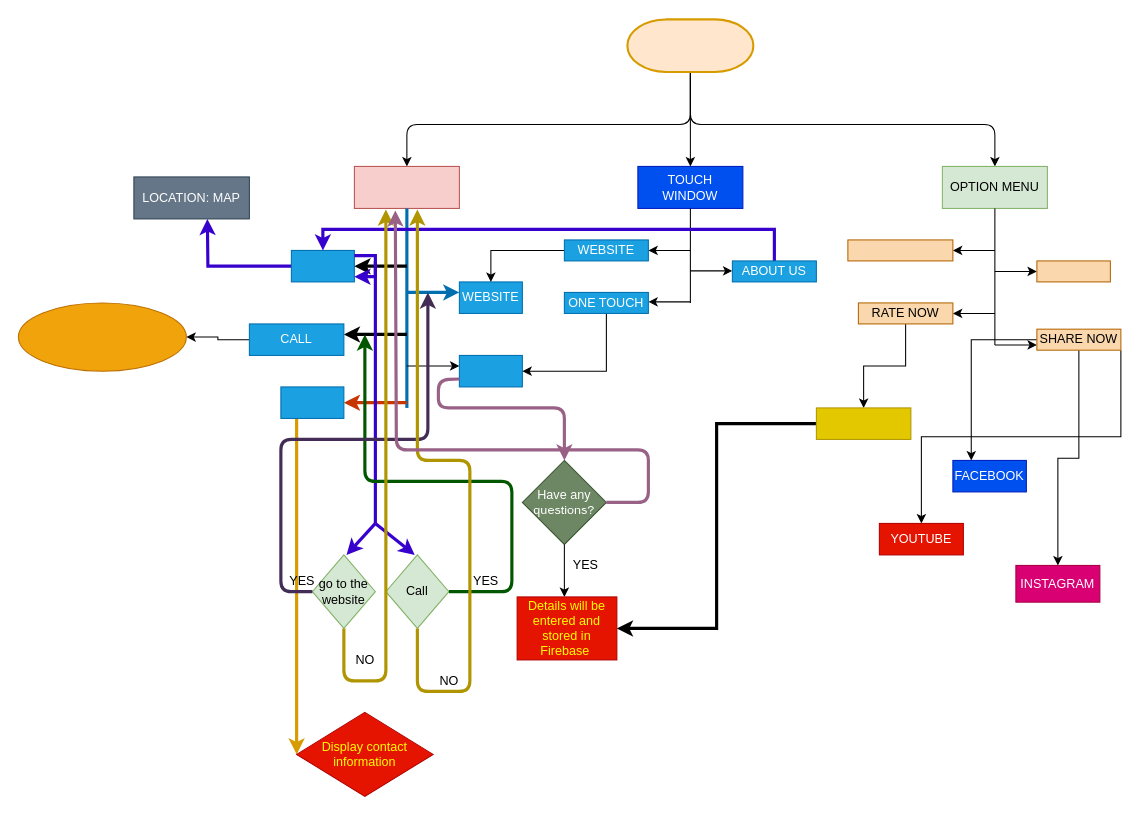
Some shapes in this 1148 by 815 pixel diagram are drawn without their labels. Here are the shapes that lost their labels. From the top down, the centre of each, then its label:
At (690,45): "BORDEAUXIEN".
At (406,186): "MAIN WINDOW".
At (322,265): "ABOUT".
At (900,250): "NOTIFICATIONS".
At (1073,271): "SEARCH".
At (101,336): "Dial the restaurant number".
At (490,370): "INQUIRE".
At (312,402): "CONTACT".
At (863,423): "RATING BAR".
